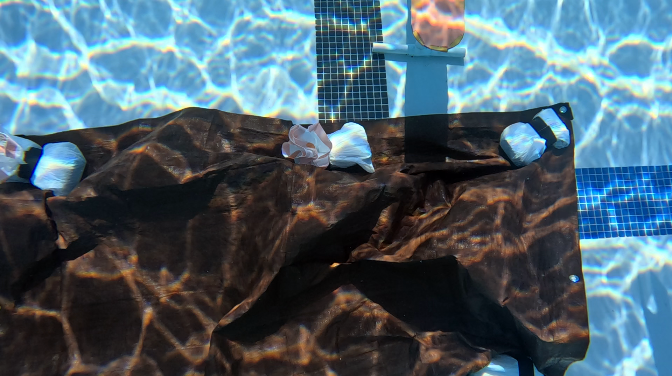pathmarker: (410, 0, 463, 51)
sandbag: (0, 102, 580, 375)
